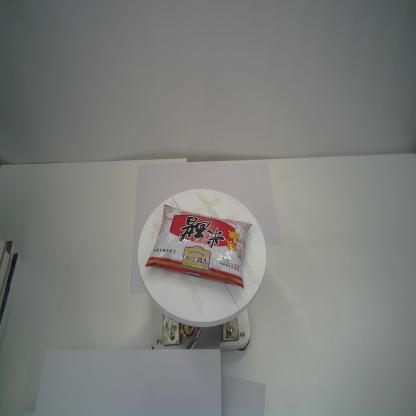Seasoner: (144, 202, 254, 291)
